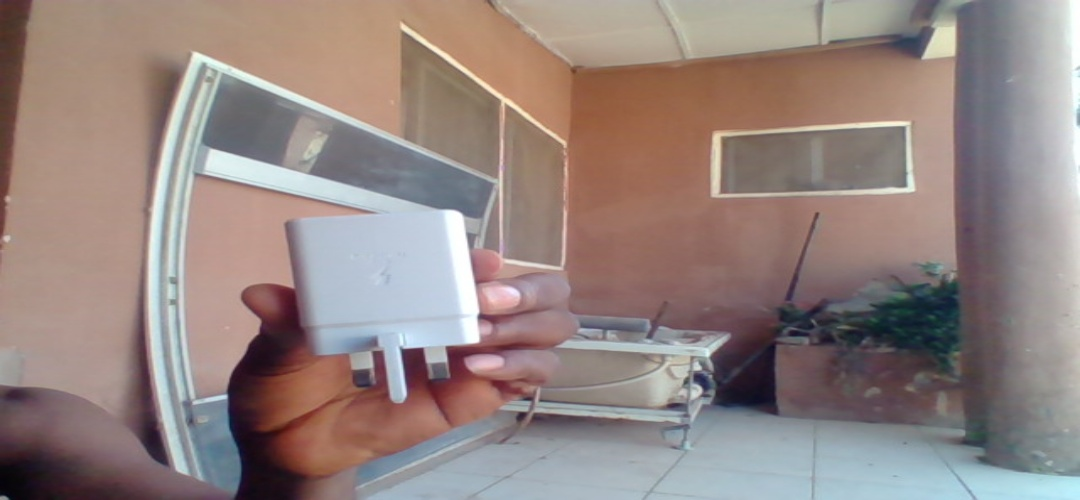phone_charger: (279, 211, 493, 406)
